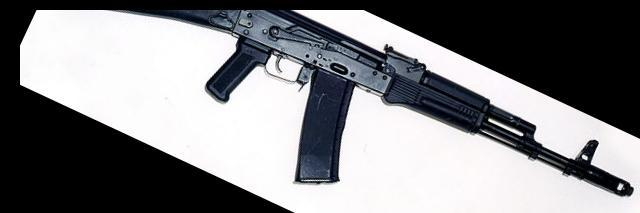larga: (110, 9, 634, 200)
